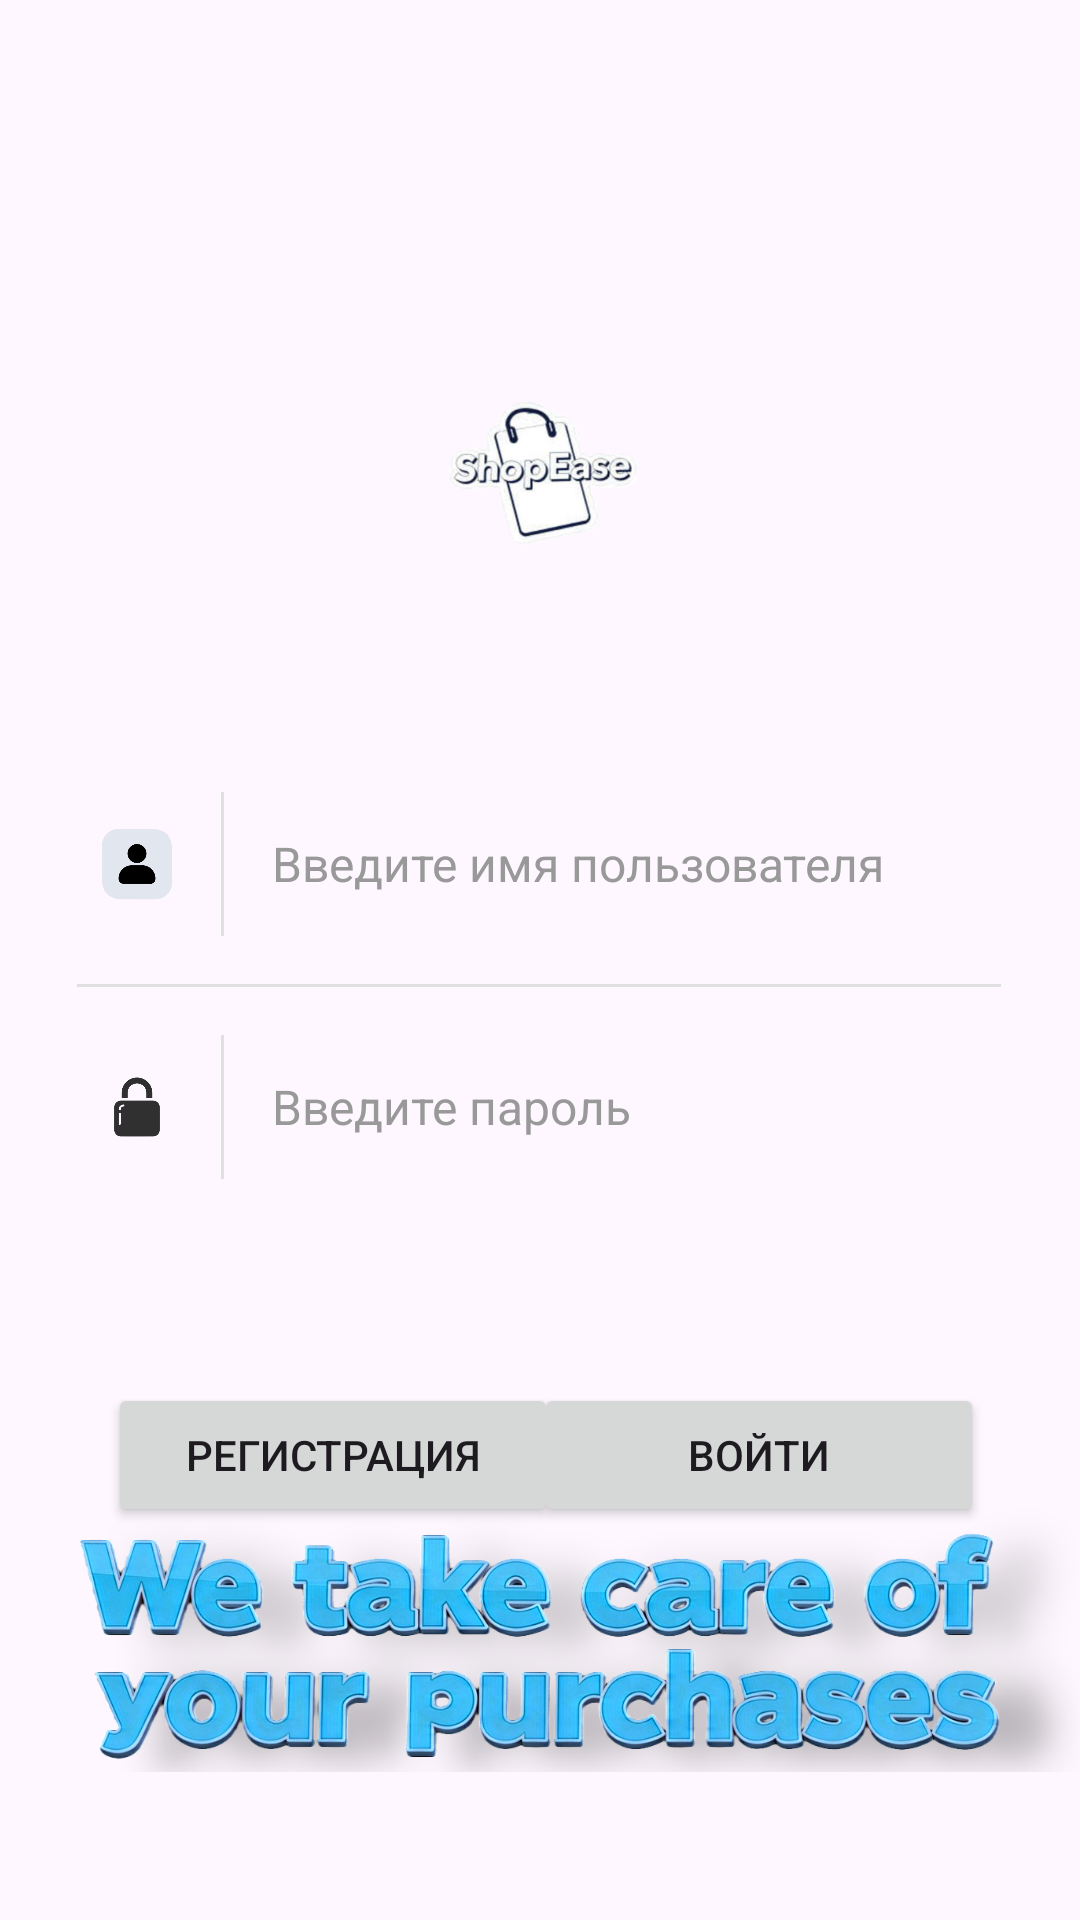

Where to tap for icons on this 1080 x 1920 app screen, as (x=x, y=y):
passicon: (x=137, y=1107)
usericon: (x=137, y=864)
